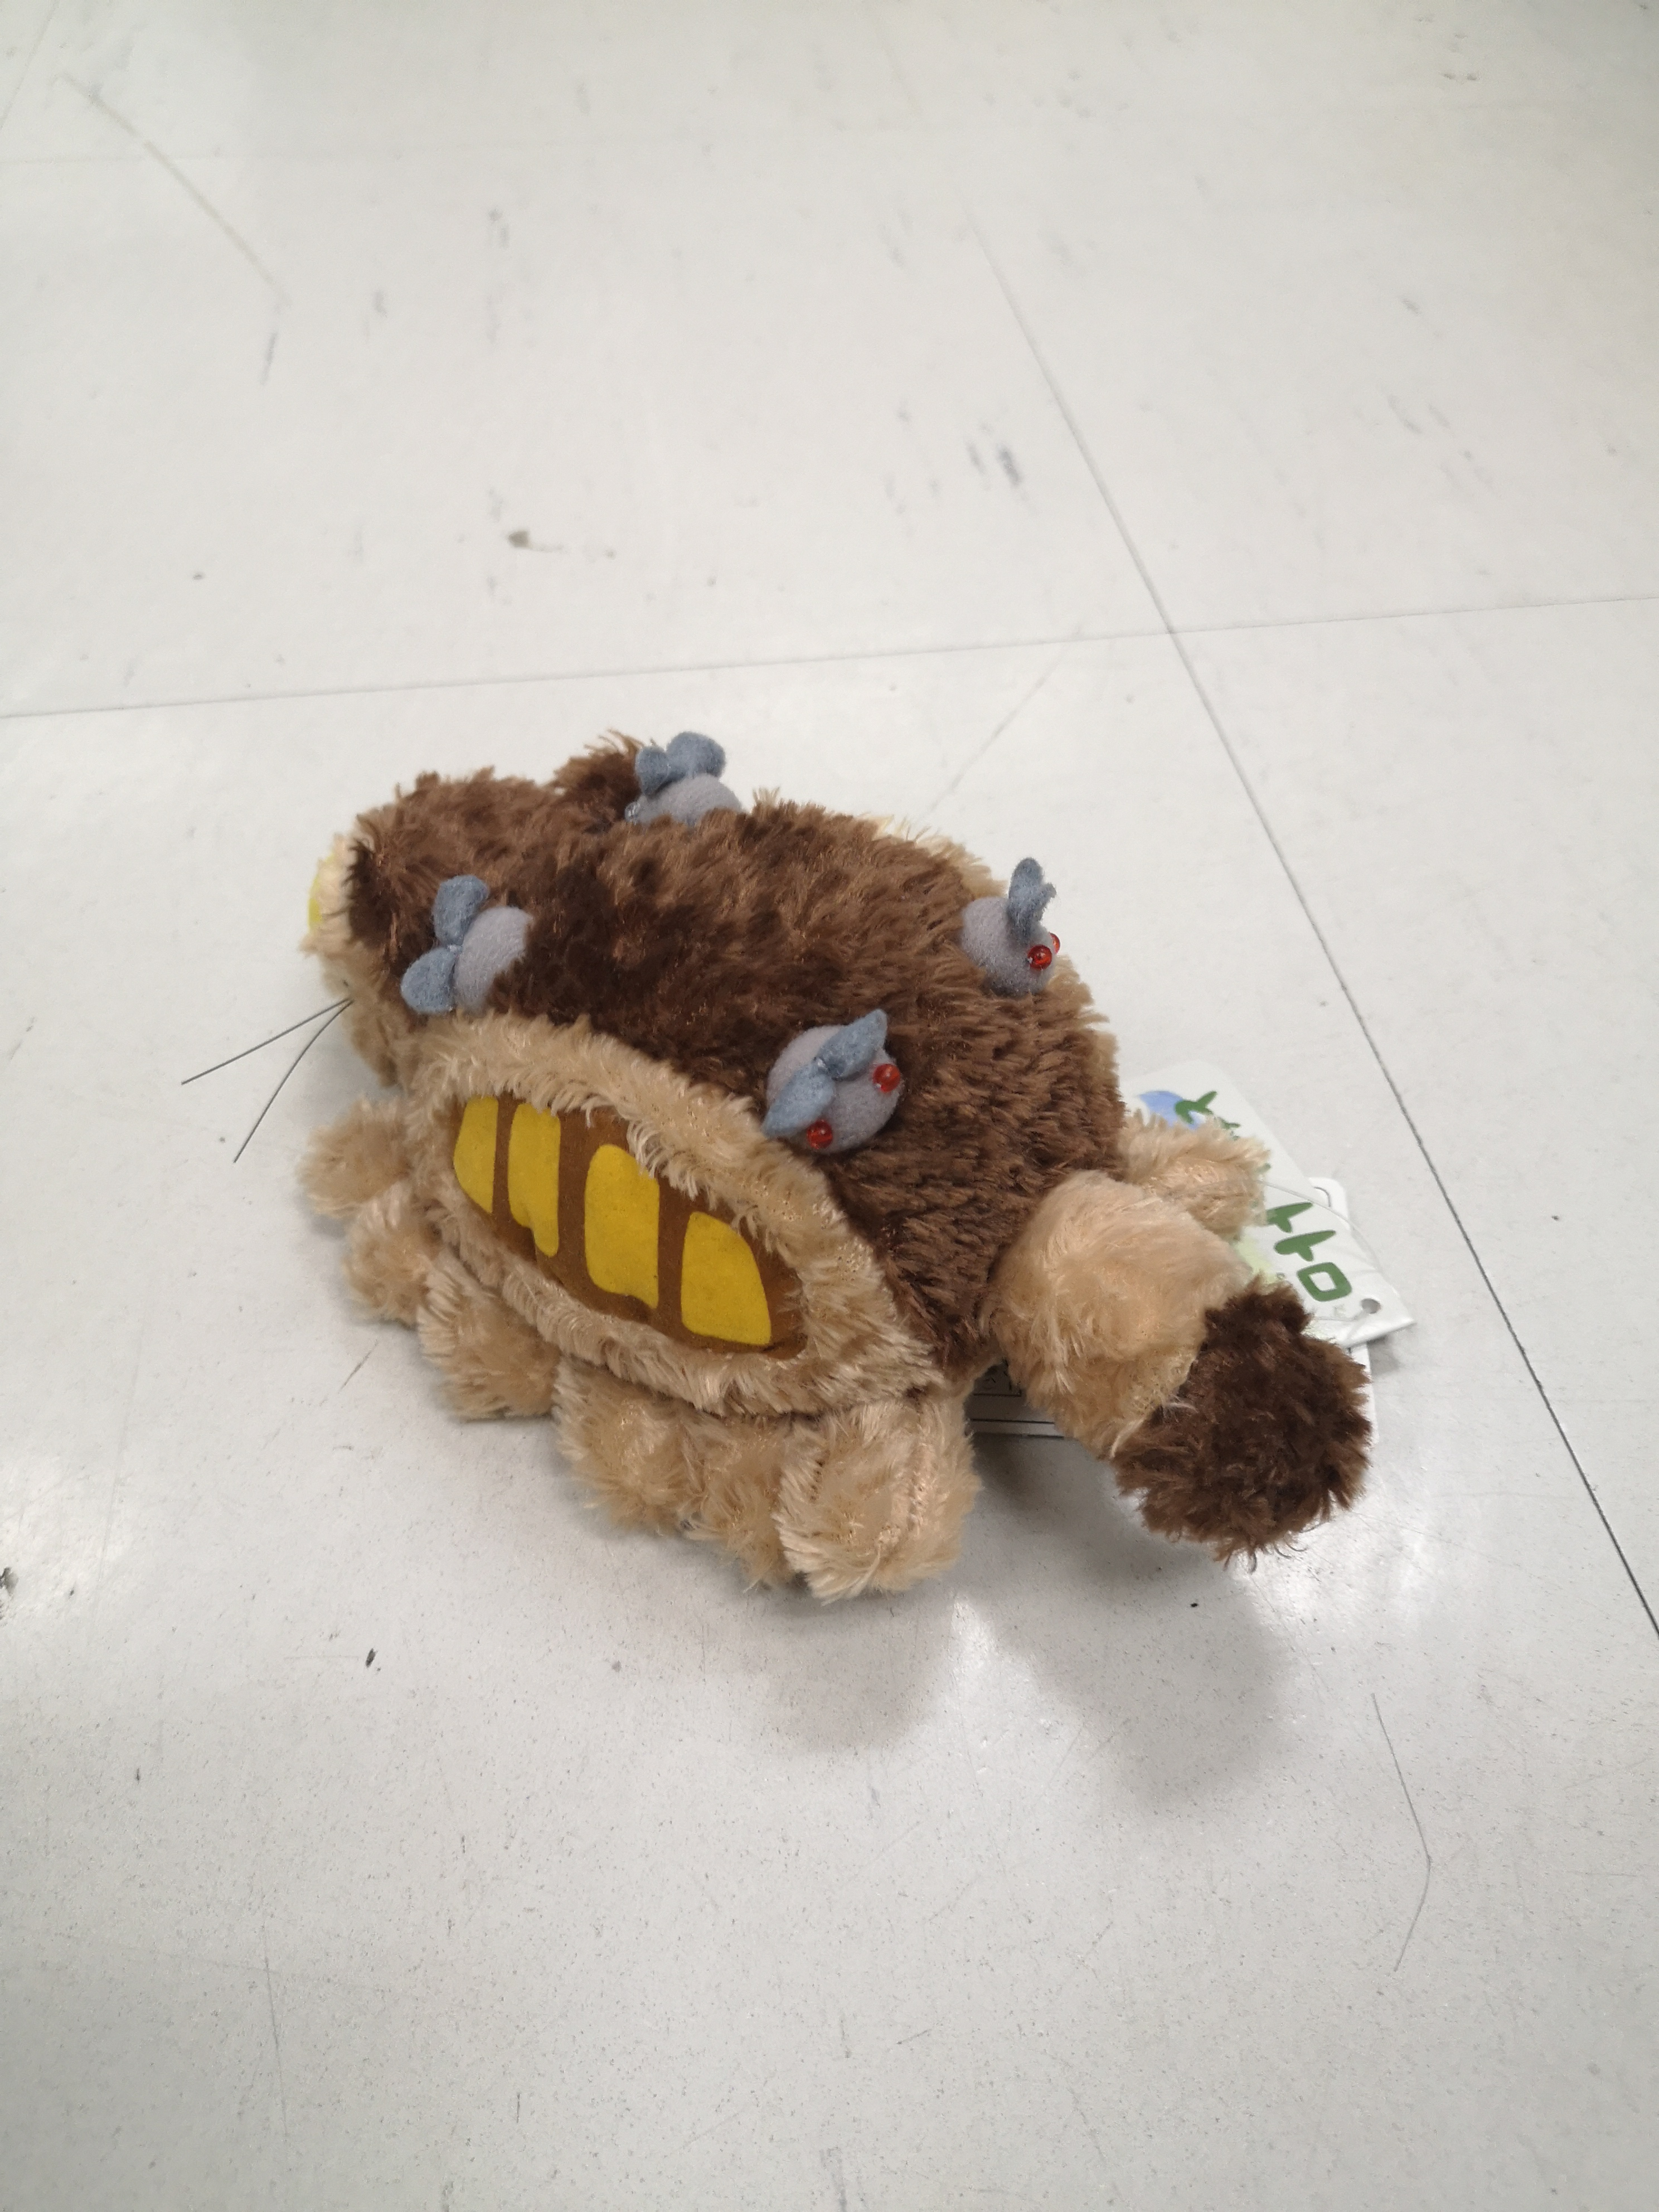nekobus: (183, 707, 1412, 1616)
